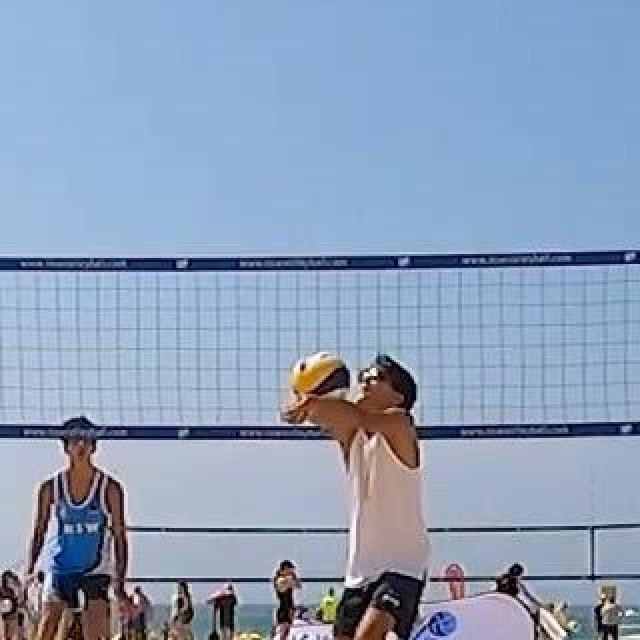volleyball: (292, 352, 348, 410)
